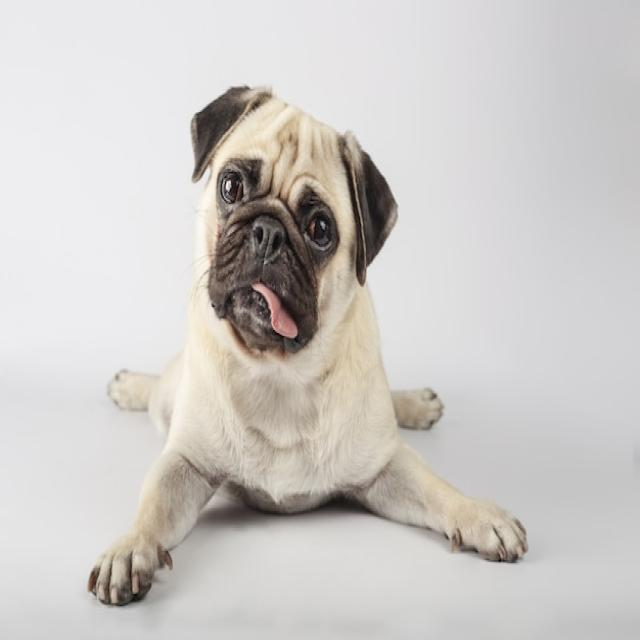Dog: (86, 86, 529, 608)
